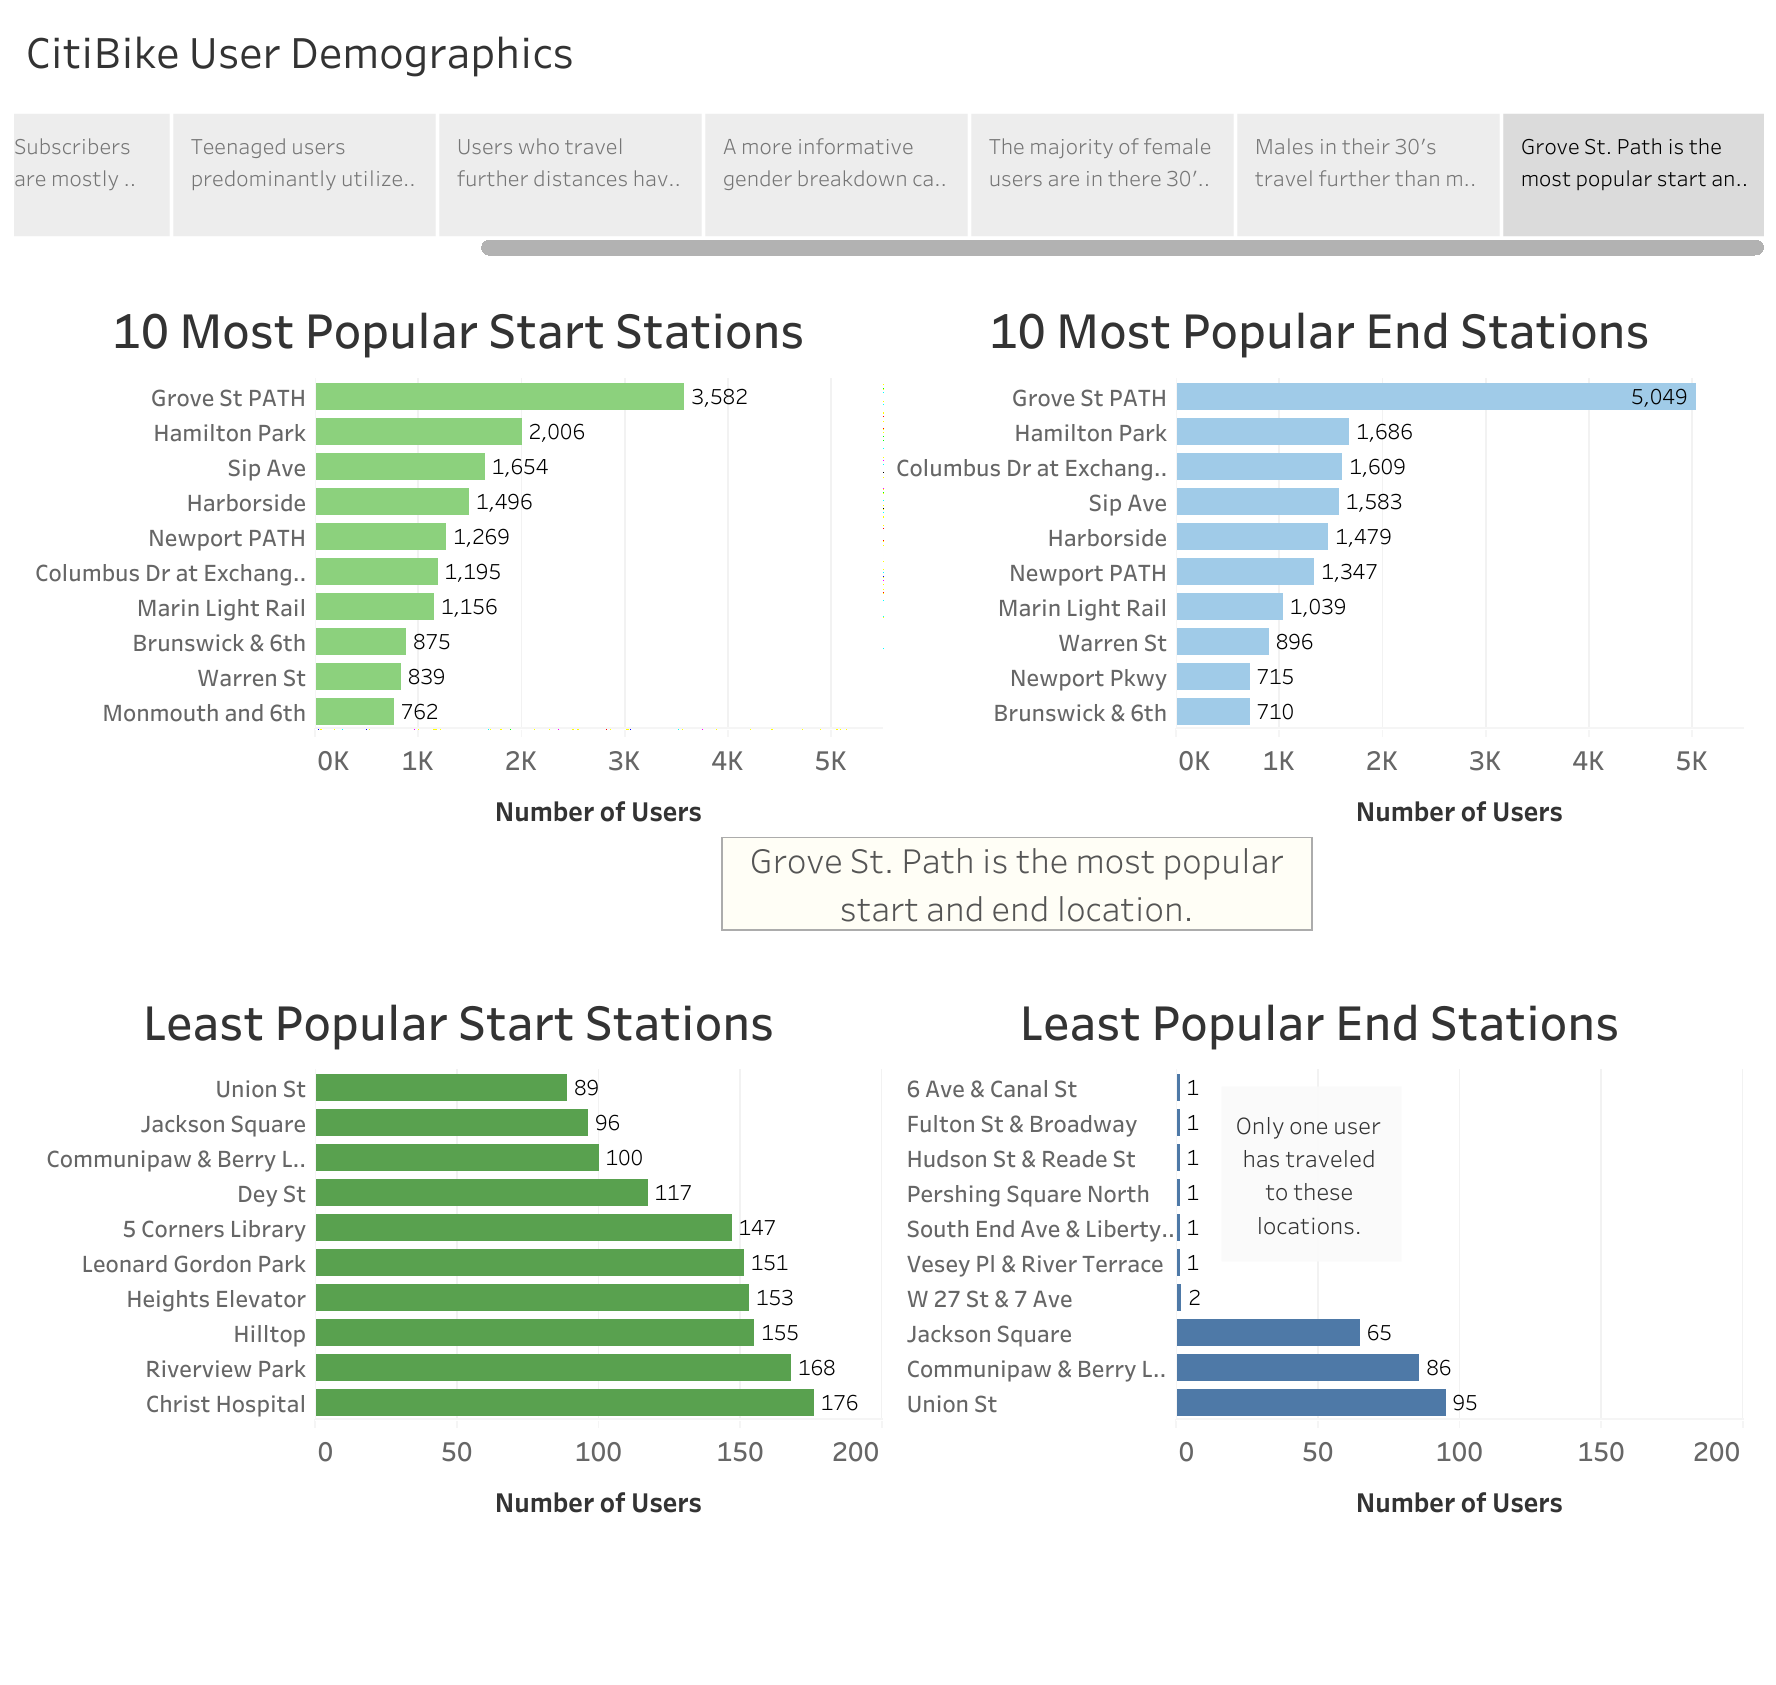

The page's visual inventory and layout, read from the dashboard file:
{"tool":"tableau","page":{"name":"Popular Station DB","canvas":[1000,1000],"units":"permille","ordinal":1},"visuals":[{"type":"worksheet","title":"Top 10 Start Stations","mark":"Automatic","rows":["start station name"],"cols":["Number of Records"],"box":[6.2,9.6,493.8,490.4]},{"type":"worksheet","title":"Top 10 End Stations","mark":"Automatic","rows":["end station name"],"cols":["Number of Records"],"box":[500,9.6,493.8,490.4]},{"type":"worksheet","title":"Bottom 10 Start Stations","mark":"Automatic","rows":["start station name"],"cols":["Number of Records"],"box":[6.2,500,493.8,490.4]},{"type":"worksheet","title":"Bottom 10 End Stations","mark":"Automatic","rows":["end station name"],"cols":["Number of Records"],"box":[500,500,493.8,490.4]}]}

Visuals, with their boxes on the dashboard's canvas, which has no fixed pixel size, in thousandths of its width and height (x1, y1, x2, y2). These are canvas units, not pixel positions in the 1776x1685 screenshot, which may show the page scaled, cropped or inside an application window:
"Top 10 Start Stations" worksheet: bbox(6, 10, 500, 500)
"Top 10 End Stations" worksheet: bbox(500, 10, 994, 500)
"Bottom 10 Start Stations" worksheet: bbox(6, 500, 500, 990)
"Bottom 10 End Stations" worksheet: bbox(500, 500, 994, 990)
